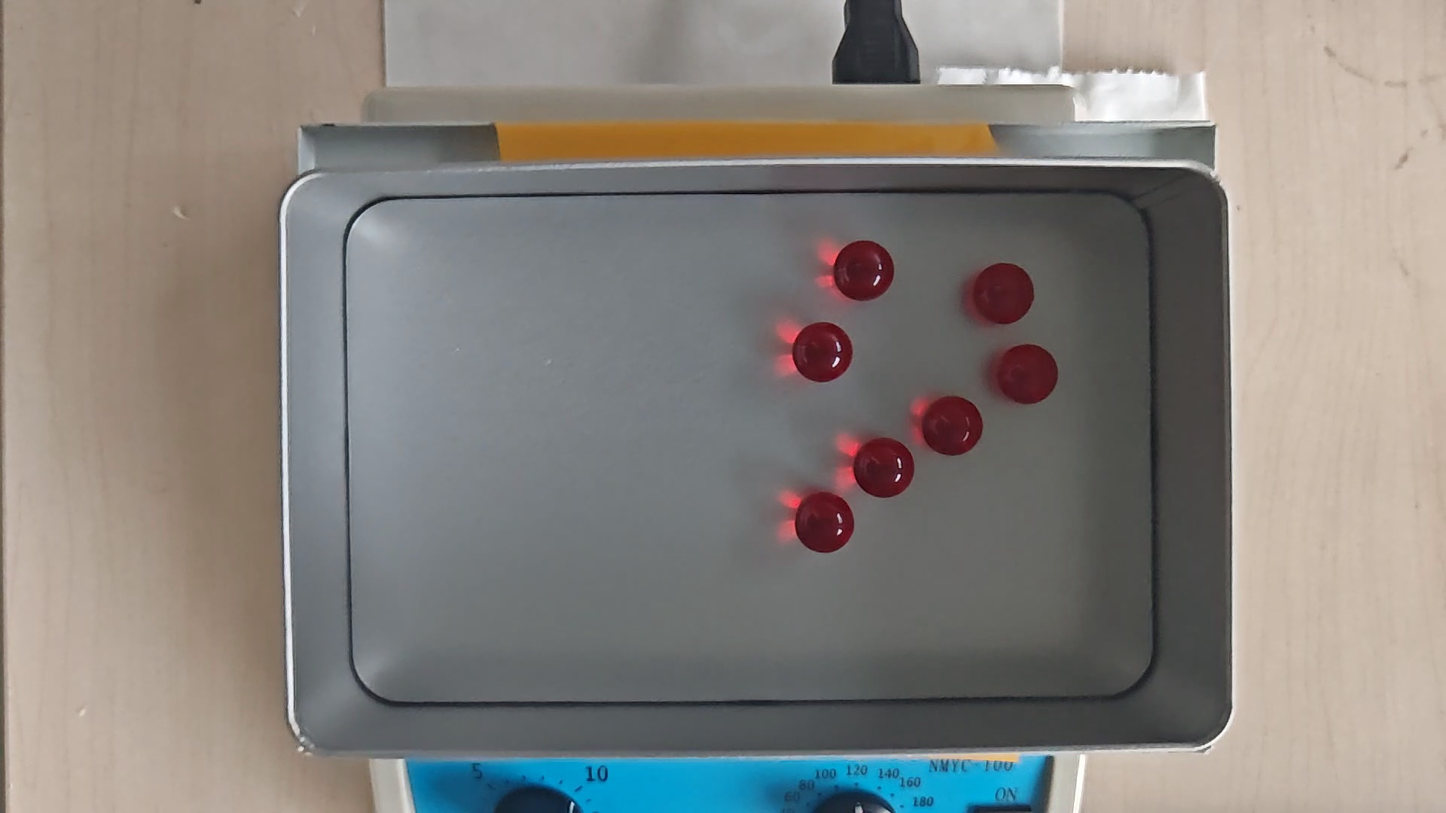ball: (793, 491, 854, 552), (972, 263, 1033, 324), (997, 344, 1057, 404), (923, 396, 982, 457), (833, 240, 892, 300), (795, 322, 852, 382), (855, 440, 914, 497)
container: (346, 189, 1154, 708)
